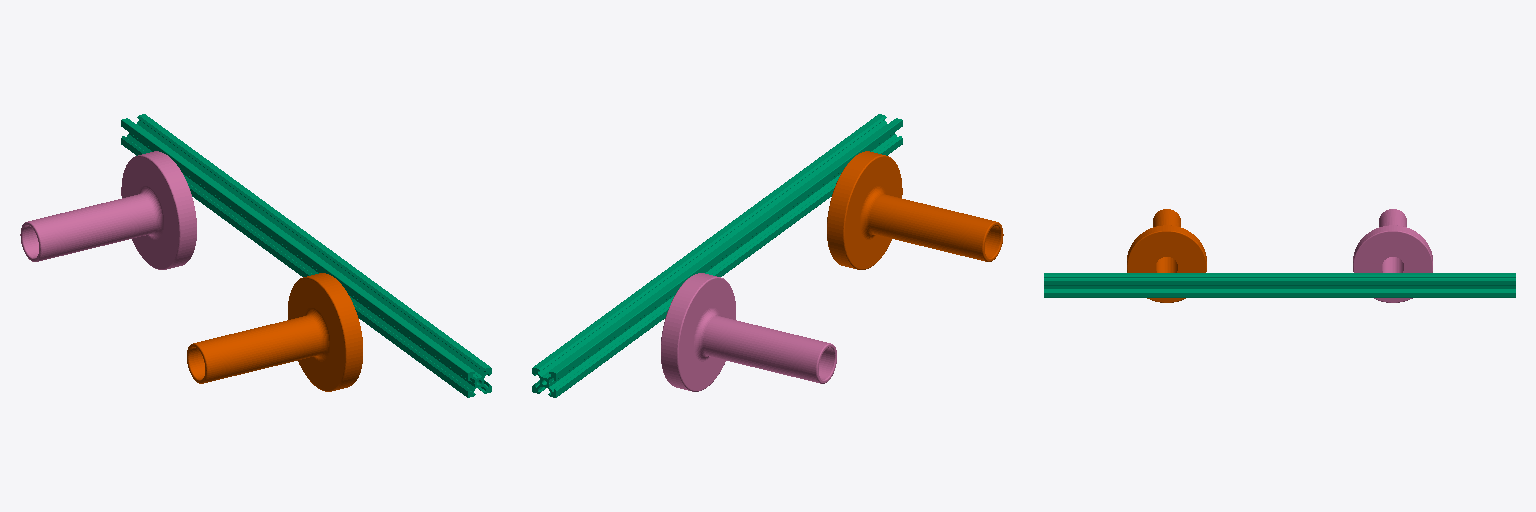
URDF robot description (panda):
<?xml version="1.0" ?>
<!-- =================================================================================== -->
<!-- |    This document was autogenerated by xacro from predictor_scenario3.urdf.xacro | -->
<!-- |    EDITING THIS FILE BY HAND IS NOT RECOMMENDED                                 | -->
<!-- =================================================================================== -->
<robot name="panda">
  <!-- sub-link defining detailed meshes for collision with environment -->
  <link name="panda_link0">
    <visual>
      <geometry>
        <mesh filename="package://franka_description/meshes/visual/link0.dae"/>
      </geometry>
    </visual>
  </link>
  <!-- sub-link defining coarse geometries of real robot's internal self-collision -->
  <link name="panda_link0_sc">
    <collision>
      <origin rpy="0 1.5707963267948966 0" xyz="-0.075 0 0.06"/>
      <geometry>
        <cylinder length="0.03" radius="0.09"/>
      </geometry>
    </collision>
    <collision>
      <origin xyz="-0.06 0 0.06"/>
      <geometry>
        <sphere radius="0.09"/>
      </geometry>
    </collision>
    <collision>
      <origin xyz="-0.09 0 0.06"/>
      <geometry>
        <sphere radius="0.09"/>
      </geometry>
    </collision>
  </link>
  <!-- fixed joint between both sub-links -->
  <joint name="panda_link0_sc_joint" type="fixed">
    <origin rpy="0 0 0"/>
    <parent link="panda_link0"/>
    <child link="panda_link0_sc"/>
  </joint>
  <!-- sub-link defining detailed meshes for collision with environment -->
  <link name="panda_link1">
    <visual>
      <geometry>
        <mesh filename="package://franka_description/meshes/visual/link1.dae"/>
      </geometry>
    </visual>
  </link>
  <!-- sub-link defining coarse geometries of real robot's internal self-collision -->
  <link name="panda_link1_sc">
    <collision>
      <origin rpy="0 0 0" xyz="0 0 -0.1915"/>
      <geometry>
        <cylinder length="0.283" radius="0.09"/>
      </geometry>
    </collision>
    <collision>
      <origin xyz="0 0 -0.05000000000000002"/>
      <geometry>
        <sphere radius="0.09"/>
      </geometry>
    </collision>
    <collision>
      <origin xyz="0 0 -0.33299999999999996"/>
      <geometry>
        <sphere radius="0.09"/>
      </geometry>
    </collision>
  </link>
  <!-- fixed joint between both sub-links -->
  <joint name="panda_link1_sc_joint" type="fixed">
    <origin rpy="0 0 0"/>
    <parent link="panda_link1"/>
    <child link="panda_link1_sc"/>
  </joint>
  <joint name="panda_joint1" type="revolute">
    <origin rpy="0 0 0" xyz="0 0 0.333"/>
    <parent link="panda_link0"/>
    <child link="panda_link1"/>
    <axis xyz="0 0 1"/>
    <limit effort="87.0" lower="-2.8973" upper="2.8973" velocity="2.175"/>
    <safety_controller k_position="100.0" k_velocity="40.0" soft_lower_limit="-2.8973" soft_upper_limit="2.8973"/>
    <dynamics D="1" K="7000" damping="1" friction="0" mu_coulomb="0" mu_viscous="16"/>
  </joint>
  <!-- sub-link defining detailed meshes for collision with environment -->
  <link name="panda_link2">
    <visual>
      <geometry>
        <mesh filename="package://franka_description/meshes/visual/link2.dae"/>
      </geometry>
    </visual>
  </link>
  <!-- sub-link defining coarse geometries of real robot's internal self-collision -->
  <link name="panda_link2_sc">
    <collision>
      <origin rpy="0 0 0" xyz="0 0 0"/>
      <geometry>
        <cylinder length="0.12" radius="0.09"/>
      </geometry>
    </collision>
    <collision>
      <origin xyz="0 0 0.06"/>
      <geometry>
        <sphere radius="0.09"/>
      </geometry>
    </collision>
    <collision>
      <origin xyz="0 0 -0.06"/>
      <geometry>
        <sphere radius="0.09"/>
      </geometry>
    </collision>
  </link>
  <!-- fixed joint between both sub-links -->
  <joint name="panda_link2_sc_joint" type="fixed">
    <origin rpy="0 0 0"/>
    <parent link="panda_link2"/>
    <child link="panda_link2_sc"/>
  </joint>
  <joint name="panda_joint2" type="revolute">
    <origin rpy="-1.5707963267948966 0 0" xyz="0 0 0"/>
    <parent link="panda_link1"/>
    <child link="panda_link2"/>
    <axis xyz="0 0 1"/>
    <limit effort="87.0" lower="-1.7628" upper="1.7628" velocity="2.175"/>
    <safety_controller k_position="100.0" k_velocity="40.0" soft_lower_limit="-1.7628" soft_upper_limit="1.7628"/>
    <dynamics D="1" K="7000" damping="1" friction="0" mu_coulomb="0" mu_viscous="16"/>
  </joint>
  <!-- sub-link defining detailed meshes for collision with environment -->
  <link name="panda_link3">
    <visual>
      <geometry>
        <mesh filename="package://franka_description/meshes/visual/link3.dae"/>
      </geometry>
    </visual>
  </link>
  <!-- sub-link defining coarse geometries of real robot's internal self-collision -->
  <link name="panda_link3_sc">
    <collision>
      <origin rpy="0 0 0" xyz="0 0 -0.145"/>
      <geometry>
        <cylinder length="0.15" radius="0.09"/>
      </geometry>
    </collision>
    <collision>
      <origin xyz="0 0 -0.06999999999999999"/>
      <geometry>
        <sphere radius="0.09"/>
      </geometry>
    </collision>
    <collision>
      <origin xyz="0 0 -0.21999999999999997"/>
      <geometry>
        <sphere radius="0.09"/>
      </geometry>
    </collision>
  </link>
  <!-- fixed joint between both sub-links -->
  <joint name="panda_link3_sc_joint" type="fixed">
    <origin rpy="0 0 0"/>
    <parent link="panda_link3"/>
    <child link="panda_link3_sc"/>
  </joint>
  <joint name="panda_joint3" type="revolute">
    <origin rpy="1.5707963267948966 0 0" xyz="0 -0.316 0"/>
    <parent link="panda_link2"/>
    <child link="panda_link3"/>
    <axis xyz="0 0 1"/>
    <limit effort="87.0" lower="-2.8973" upper="2.8973" velocity="2.175"/>
    <safety_controller k_position="100.0" k_velocity="40.0" soft_lower_limit="-2.8973" soft_upper_limit="2.8973"/>
    <dynamics D="1" K="7000" damping="1" friction="0" mu_coulomb="0" mu_viscous="16"/>
  </joint>
  <!-- sub-link defining detailed meshes for collision with environment -->
  <link name="panda_link4">
    <visual>
      <geometry>
        <mesh filename="package://franka_description/meshes/visual/link4.dae"/>
      </geometry>
    </visual>
  </link>
  <!-- sub-link defining coarse geometries of real robot's internal self-collision -->
  <link name="panda_link4_sc">
    <collision>
      <origin rpy="0 0 0" xyz="0 0 0"/>
      <geometry>
        <cylinder length="0.12" radius="0.09"/>
      </geometry>
    </collision>
    <collision>
      <origin xyz="0 0 0.06"/>
      <geometry>
        <sphere radius="0.09"/>
      </geometry>
    </collision>
    <collision>
      <origin xyz="0 0 -0.06"/>
      <geometry>
        <sphere radius="0.09"/>
      </geometry>
    </collision>
  </link>
  <!-- fixed joint between both sub-links -->
  <joint name="panda_link4_sc_joint" type="fixed">
    <origin rpy="0 0 0"/>
    <parent link="panda_link4"/>
    <child link="panda_link4_sc"/>
  </joint>
  <joint name="panda_joint4" type="revolute">
    <origin rpy="1.5707963267948966 0 0" xyz="0.0825 0 0"/>
    <parent link="panda_link3"/>
    <child link="panda_link4"/>
    <axis xyz="0 0 1"/>
    <limit effort="87.0" lower="-3.0718" upper="-0.0698" velocity="2.175"/>
    <safety_controller k_position="100.0" k_velocity="40.0" soft_lower_limit="-3.0718" soft_upper_limit="-0.0698"/>
    <dynamics D="1" K="7000" damping="1" friction="0" mu_coulomb="0" mu_viscous="16"/>
  </joint>
  <!-- sub-link defining detailed meshes for collision with environment -->
  <link name="panda_link5">
    <visual>
      <geometry>
        <mesh filename="package://franka_description/meshes/visual/link5.dae"/>
      </geometry>
    </visual>
  </link>
  <!-- sub-link defining coarse geometries of real robot's internal self-collision -->
  <link name="panda_link5_sc">
    <collision>
      <origin rpy="0 0 0" xyz="0 0 -0.26"/>
      <geometry>
        <cylinder length="0.1" radius="0.09"/>
      </geometry>
    </collision>
    <collision>
      <origin xyz="0 0 -0.21000000000000002"/>
      <geometry>
        <sphere radius="0.09"/>
      </geometry>
    </collision>
    <collision>
      <origin xyz="0 0 -0.31"/>
      <geometry>
        <sphere radius="0.09"/>
      </geometry>
    </collision>
    <collision>
      <origin rpy="0 0 0.08" xyz="0 0.08 -0.13"/>
      <geometry>
        <cylinder length="0.14" radius="0.055"/>
      </geometry>
    </collision>
    <collision>
      <origin xyz="0 0.08 -0.06"/>
      <geometry>
        <sphere radius="0.055"/>
      </geometry>
    </collision>
    <collision>
      <origin xyz="0 0.08 -0.2"/>
      <geometry>
        <sphere radius="0.055"/>
      </geometry>
    </collision>
  </link>
  <!-- fixed joint between both sub-links -->
  <joint name="panda_link5_sc_joint" type="fixed">
    <origin rpy="0 0 0"/>
    <parent link="panda_link5"/>
    <child link="panda_link5_sc"/>
  </joint>
  <joint name="panda_joint5" type="revolute">
    <origin rpy="-1.5707963267948966 0 0" xyz="-0.0825 0.384 0"/>
    <parent link="panda_link4"/>
    <child link="panda_link5"/>
    <axis xyz="0 0 1"/>
    <limit effort="12.0" lower="-2.8973" upper="2.8973" velocity="2.61"/>
    <safety_controller k_position="100.0" k_velocity="40.0" soft_lower_limit="-2.8973" soft_upper_limit="2.8973"/>
    <dynamics D="1" K="7000" damping="1" friction="0" mu_coulomb="0" mu_viscous="16"/>
  </joint>
  <!-- sub-link defining detailed meshes for collision with environment -->
  <link name="panda_link6">
    <visual>
      <geometry>
        <mesh filename="package://franka_description/meshes/visual/link6.dae"/>
      </geometry>
    </visual>
  </link>
  <!-- sub-link defining coarse geometries of real robot's internal self-collision -->
  <link name="panda_link6_sc">
    <collision>
      <origin rpy="0 0 0" xyz="0 0 -0.03"/>
      <geometry>
        <cylinder length="0.08" radius="0.08"/>
      </geometry>
    </collision>
    <collision>
      <origin xyz="0 0 0.010000000000000002"/>
      <geometry>
        <sphere radius="0.08"/>
      </geometry>
    </collision>
    <collision>
      <origin xyz="0 0 -0.07"/>
      <geometry>
        <sphere radius="0.08"/>
      </geometry>
    </collision>
  </link>
  <!-- fixed joint between both sub-links -->
  <joint name="panda_link6_sc_joint" type="fixed">
    <origin rpy="0 0 0"/>
    <parent link="panda_link6"/>
    <child link="panda_link6_sc"/>
  </joint>
  <joint name="panda_joint6" type="revolute">
    <origin rpy="1.5707963267948966 0 0" xyz="0 0 0"/>
    <parent link="panda_link5"/>
    <child link="panda_link6"/>
    <axis xyz="0 0 1"/>
    <limit effort="12.0" lower="-0.0175" upper="3.7525" velocity="2.61"/>
    <safety_controller k_position="100.0" k_velocity="40.0" soft_lower_limit="-0.0175" soft_upper_limit="3.7525"/>
    <dynamics D="1" K="7000" damping="1" friction="0" mu_coulomb="0" mu_viscous="16"/>
  </joint>
  <!-- sub-link defining detailed meshes for collision with environment -->
  <link name="panda_link7">
    <visual>
      <geometry>
        <mesh filename="package://franka_description/meshes/visual/link7.dae"/>
      </geometry>
    </visual>
  </link>
  <!-- sub-link defining coarse geometries of real robot's internal self-collision -->
  <link name="panda_link7_sc">
    <collision>
      <origin rpy="0 0 0" xyz="0 0 0.01"/>
      <geometry>
        <cylinder length="0.14" radius="0.07"/>
      </geometry>
    </collision>
    <collision>
      <origin xyz="0 0 0.08"/>
      <geometry>
        <sphere radius="0.07"/>
      </geometry>
    </collision>
    <collision>
      <origin xyz="0 0 -0.060000000000000005"/>
      <geometry>
        <sphere radius="0.07"/>
      </geometry>
    </collision>
    <collision>
      <origin rpy="0 1.5707963267948966 0" xyz="0.06 0 0.082"/>
      <geometry>
        <cylinder length="0.01" radius="0.06"/>
      </geometry>
    </collision>
    <collision>
      <origin xyz="0.065 0 0.082"/>
      <geometry>
        <sphere radius="0.06"/>
      </geometry>
    </collision>
    <collision>
      <origin xyz="0.055 0 0.082"/>
      <geometry>
        <sphere radius="0.06"/>
      </geometry>
    </collision>
  </link>
  <!-- fixed joint between both sub-links -->
  <joint name="panda_link7_sc_joint" type="fixed">
    <origin rpy="0 0 0.7853981633974483"/>
    <parent link="panda_link7"/>
    <child link="panda_link7_sc"/>
  </joint>
  <joint name="panda_joint7" type="revolute">
    <origin rpy="1.5707963267948966 0 0" xyz="0.088 0 0"/>
    <parent link="panda_link6"/>
    <child link="panda_link7"/>
    <axis xyz="0 0 1"/>
    <limit effort="12.0" lower="-2.8973" upper="2.8973" velocity="2.61"/>
    <safety_controller k_position="100.0" k_velocity="40.0" soft_lower_limit="-2.8973" soft_upper_limit="2.8973"/>
    <dynamics D="1" K="7000" damping="1" friction="0" mu_coulomb="0" mu_viscous="16"/>
  </joint>
  <link name="panda_link8"/>
  <joint name="panda_joint8" type="fixed">
    <origin rpy="0 0 0" xyz="0 0 0.107"/>
    <parent link="panda_link7"/>
    <child link="panda_link8"/>
  </joint>
  <!-- link 0 -->
  <link name="adapter">
    <inertial>
      <origin rpy="3.1415 0 1.5707" xyz="0 0 0.00246"/>
      <mass value="0.066"/>
      <inertia ixx="0.000011829989" ixy="0.0" ixz="0.0" iyy="0.00004342130" iyz="0.0" izz="0.000055138857"/>
    </inertial>
    <visual>
      <origin rpy="3.1415 0 1.5707" xyz="0 0 0"/>
      <geometry>
        <mesh filename="package://franka_description/meshes/fixture/adapter.dae" scale="0.001 0.001 0.001"/>
      </geometry>
    </visual>
  </link>
  <joint name="panda_link8_to_adapter" type="fixed">
    <origin rpy="0 0 0" xyz="0 0 0.0037"/>
    <!-- -0.125 0.025 -->
    <parent link="panda_link8"/>
    <child link="adapter"/>
    <axis xyz="0 0 0"/>
  </joint>
  <link name="extrusion">
    <inertial>
      <origin rpy="0 0 0" xyz="0 0 0.25"/>
      <mass value="0.225"/>
      <inertia ixx="0.00483" ixy="0.0" ixz="0.0" iyy="0.00483" iyz="0.0" izz="0.000018868543"/>
    </inertial>
    <visual>
      <origin rpy="0 0 0" xyz="0 0 0"/>
      <geometry>
        <mesh filename="package://franka_description/meshes/fixture/extrusion.dae" scale="0.001 0.001 0.001"/>
      </geometry>
    </visual>
  </link>
  <joint name="adapter_to_extrusion" type="fixed">
    <origin rpy="1.5707 0 0" xyz="0 0.25 0.0085"/>
    <!-- -0.125 0.025 -->
    <parent link="adapter"/>
    <child link="extrusion"/>
    <axis xyz="0 0 0"/>
  </joint>
  <link name="ft_sensor1">
    <inertial>
      <origin rpy="0 0 0" xyz="0 0.0001 0.0392"/>
      <mass value="0.559"/>
      <inertia ixx="0.0009781" ixy="0.0" ixz="0.0" iyy="0.0009788" iyz="0.0" izz="0.0006262"/>
    </inertial>
    <visual>
      <origin rpy="0 0 0" xyz="0 0 0"/>
      <geometry>
        <mesh filename="package://franka_description/meshes/fixture/ft_sensor.dae" scale="0.001 0.001 0.001"/>
      </geometry>
    </visual>
  </link>
  <joint name="extrusion_to_ft_sensor1" type="fixed">
    <origin rpy="-1.5707963267948966 1.5707963267948966 0" xyz="0 0.0085 0.130"/>
    <parent link="extrusion"/>
    <child link="ft_sensor1"/>
    <axis xyz="0 0 0"/>
  </joint>
  <link name="ft_sensor2">
    <inertial>
      <origin rpy="0 0 0" xyz="0 0.0001 0.0392"/>
      <mass value="0.559"/>
      <inertia ixx="0.0009781" ixy="0.0" ixz="0.0" iyy="0.0009788" iyz="0.0" izz="0.0006262"/>
    </inertial>
    <visual>
      <origin rpy="0 0 0" xyz="0 0 0"/>
      <geometry>
        <mesh filename="package://franka_description/meshes/fixture/ft_sensor.dae" scale="0.001 0.001 0.001"/>
      </geometry>
    </visual>
  </link>
  <joint name="extrusion_to_ft_sensor2" type="fixed">
    <origin rpy="-1.5707963267948966 1.5707963267948966 0" xyz="0 0.0085 0.370"/>
    <parent link="extrusion"/>
    <child link="ft_sensor2"/>
    <axis xyz="0 0 0"/>
  </joint>
  <link name="handle_link1">
    <inertial>
      <origin rpy="-1.5707963267948966 0 0" xyz="0 0 0.04"/>
      <mass value="0.250"/>
      <inertia ixx="0.0003412" ixy="0.0" ixz="0.0" iyy="0.0002187" iyz="0.0" izz="0.0003412"/>
    </inertial>
    <visual>
      <origin rpy="-1.5707 0 0" xyz="0 0 0"/>
      <geometry>
        <mesh filename="package://franka_description/meshes/fixture/handle.dae" scale="0.001 0.001 0.001"/>
      </geometry>
    </visual>
  </link>
  <joint name="ft_sensor1_to_handle1" type="revolute">
    <origin rpy="0 0 3.141592653589793" xyz="0 0 0.0373"/>
    <parent link="ft_sensor1"/>
    <child link="handle_link1"/>
    <axis xyz="0 0 1"/>
    <limit effort="12" lower="0" upper="0" velocity="0.1"/>
  </joint>
  <link name="handle_link2">
    <inertial>
      <origin rpy="-1.5707963267948966 0 0" xyz="0 0 0.04"/>
      <mass value="0.250"/>
      <inertia ixx="0.0003412" ixy="0.0" ixz="0.0" iyy="0.0002187" iyz="0.0" izz="0.0003412"/>
    </inertial>
    <visual>
      <origin rpy="-1.5707 0 0" xyz="0 0 0"/>
      <geometry>
        <mesh filename="package://franka_description/meshes/fixture/handle.dae" scale="0.001 0.001 0.001"/>
      </geometry>
    </visual>
  </link>
  <joint name="ft_sensor2_to_handle2" type="revolute">
    <origin rpy="0 0 3.141592653589793" xyz="0 0 0.0373"/>
    <parent link="ft_sensor2"/>
    <child link="handle_link2"/>
    <axis xyz="0 0 1"/>
    <limit effort="12" lower="0" upper="0" velocity="0.1"/>
  </joint>
</robot>

--- What the picture shows (computed from the rendered views, not written in the file) ---
3 views of the same robot in one strip: view 1: azimuth 30°, elevation 25°; view 2: azimuth 150°, elevation 25°; view 3: azimuth 270°, elevation 25° (orthographic).
Robot: panda — 23 links, 22 joints (9 revolute, 13 fixed); root link panda_link0; default pose: joints at zero except 1 at the middle of their limits (panda_joint4 = -1.57).
Visible links, largest first — view 1: extrusion, handle_link2, handle_link1; view 2: extrusion, handle_link1, handle_link2; view 3: extrusion, handle_link2, handle_link1.
Link boxes in pixels (x1,y1,x2,y2): extrusion: [121, 114, 491, 397]; handle_link2: [20, 151, 196, 269]; handle_link1: [187, 273, 362, 391]; extrusion: [532, 114, 902, 397]; handle_link1: [827, 151, 1003, 269]; handle_link2: [661, 273, 836, 391]; extrusion: [1044, 273, 1515, 297]; handle_link2: [1353, 209, 1432, 302]; handle_link1: [1127, 209, 1206, 302].
Size in the robot's own frame: 0.1708 by 0.5 by 0.0849 metres.
Meshes: 12 distinct files referenced, 3 mesh visuals loaded (2 Collada DAE); not drawn: 11 (reference not matched to a file when rendering).